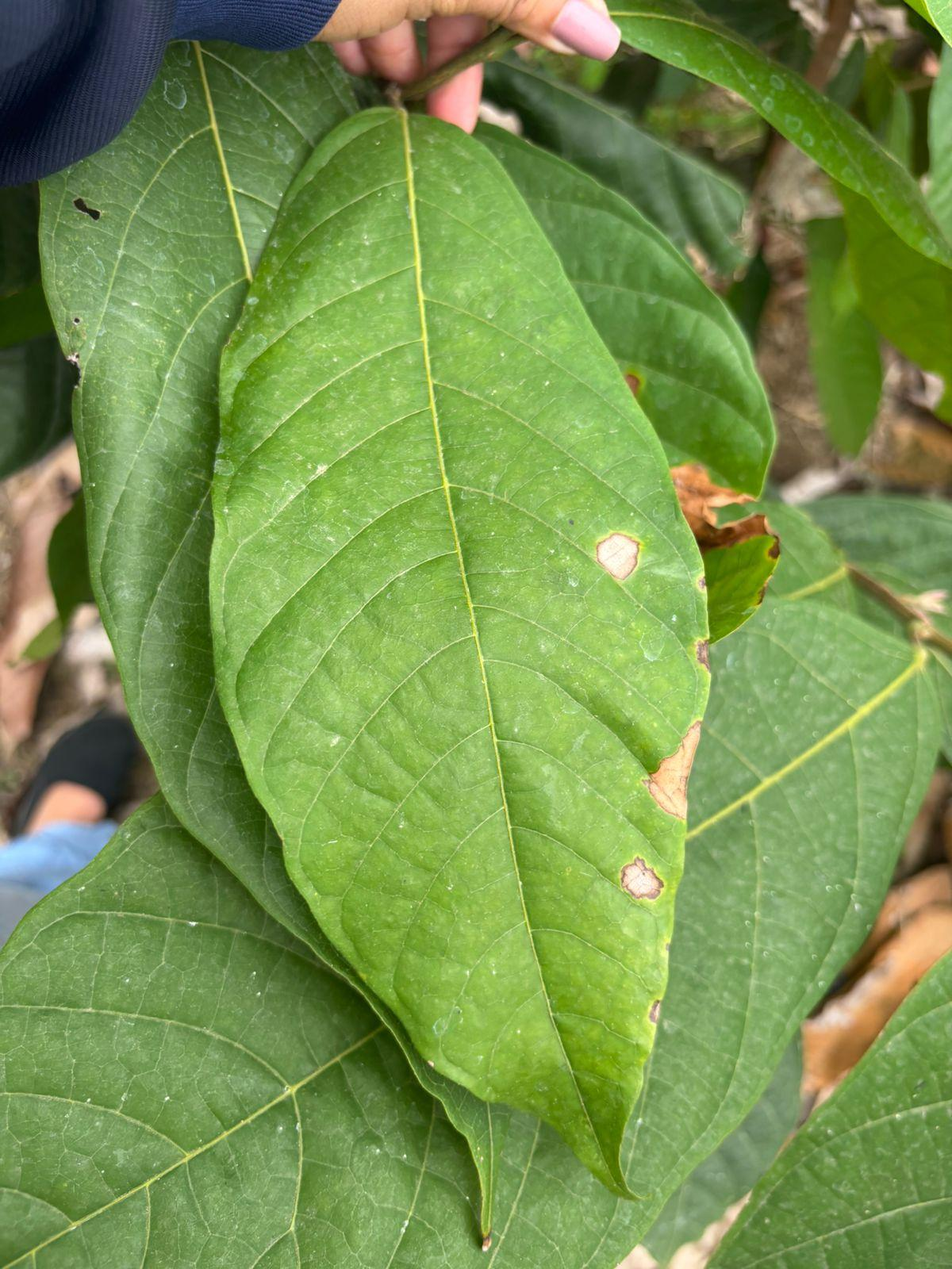deficiencia_potasio: (211, 109, 706, 1198)
